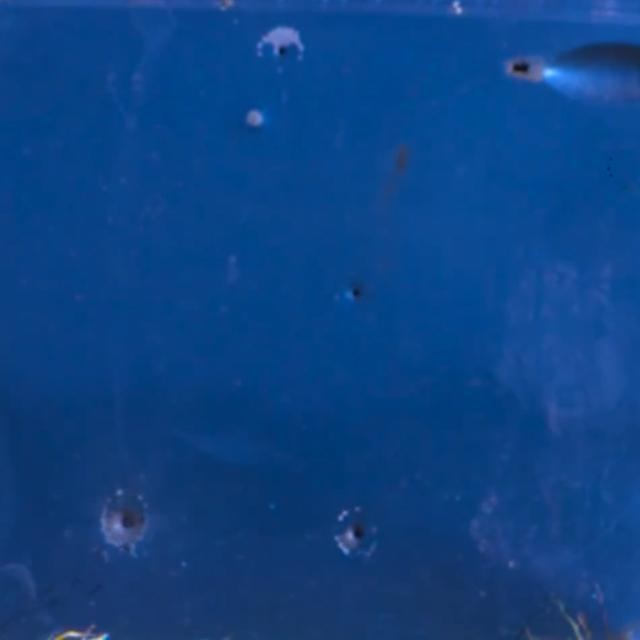bullets: (328, 504, 381, 567), (102, 493, 150, 555), (342, 280, 370, 306)
